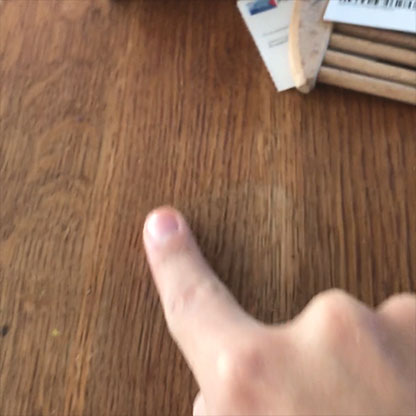fingertip: (126, 199, 207, 265)
